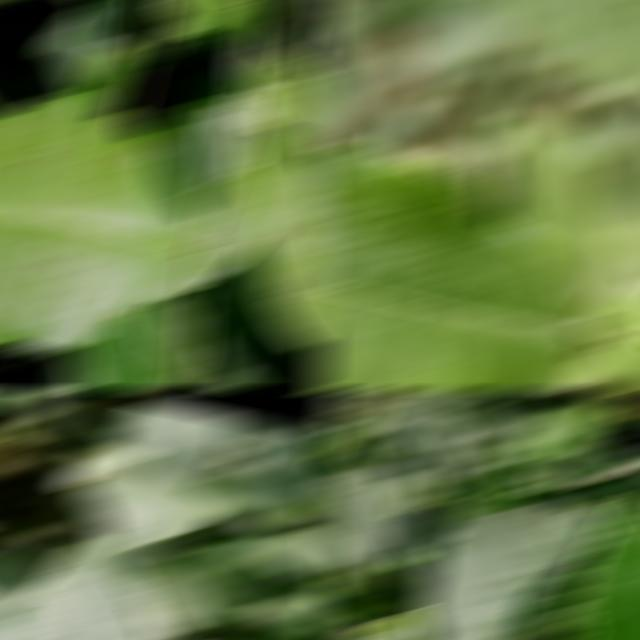Leaf: (312, 145, 593, 388), (0, 95, 205, 350), (416, 503, 607, 638), (495, 110, 604, 293), (240, 126, 328, 344), (1, 2, 154, 112), (144, 92, 256, 238), (76, 456, 226, 561), (481, 2, 640, 88), (312, 467, 411, 587), (109, 401, 239, 485), (224, 419, 328, 521), (194, 135, 261, 282), (166, 536, 268, 630), (73, 295, 168, 388), (493, 407, 618, 471), (251, 48, 328, 149), (405, 2, 513, 73), (313, 23, 371, 131), (403, 418, 468, 487), (508, 575, 574, 638), (457, 471, 544, 517), (254, 532, 328, 578), (244, 599, 328, 635), (0, 557, 41, 613), (150, 256, 208, 294), (356, 612, 424, 638), (603, 216, 640, 255), (246, 621, 328, 638)
